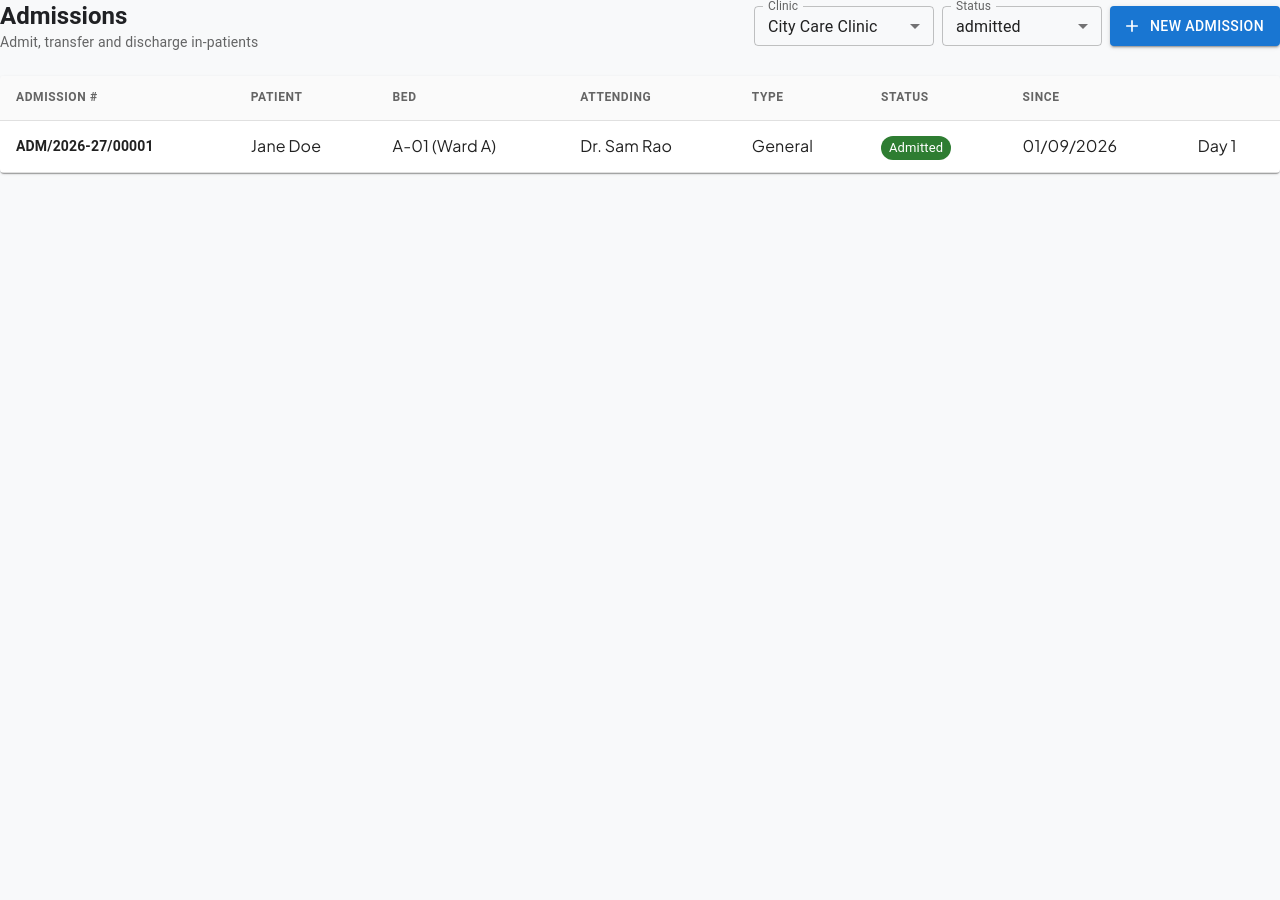
ipd/Admissions › opens the detail dialog and shows the discharge action for a live admission
Click the text "ADM/2026-27/00001". click: (85, 146)
box: [16,138,154,154]
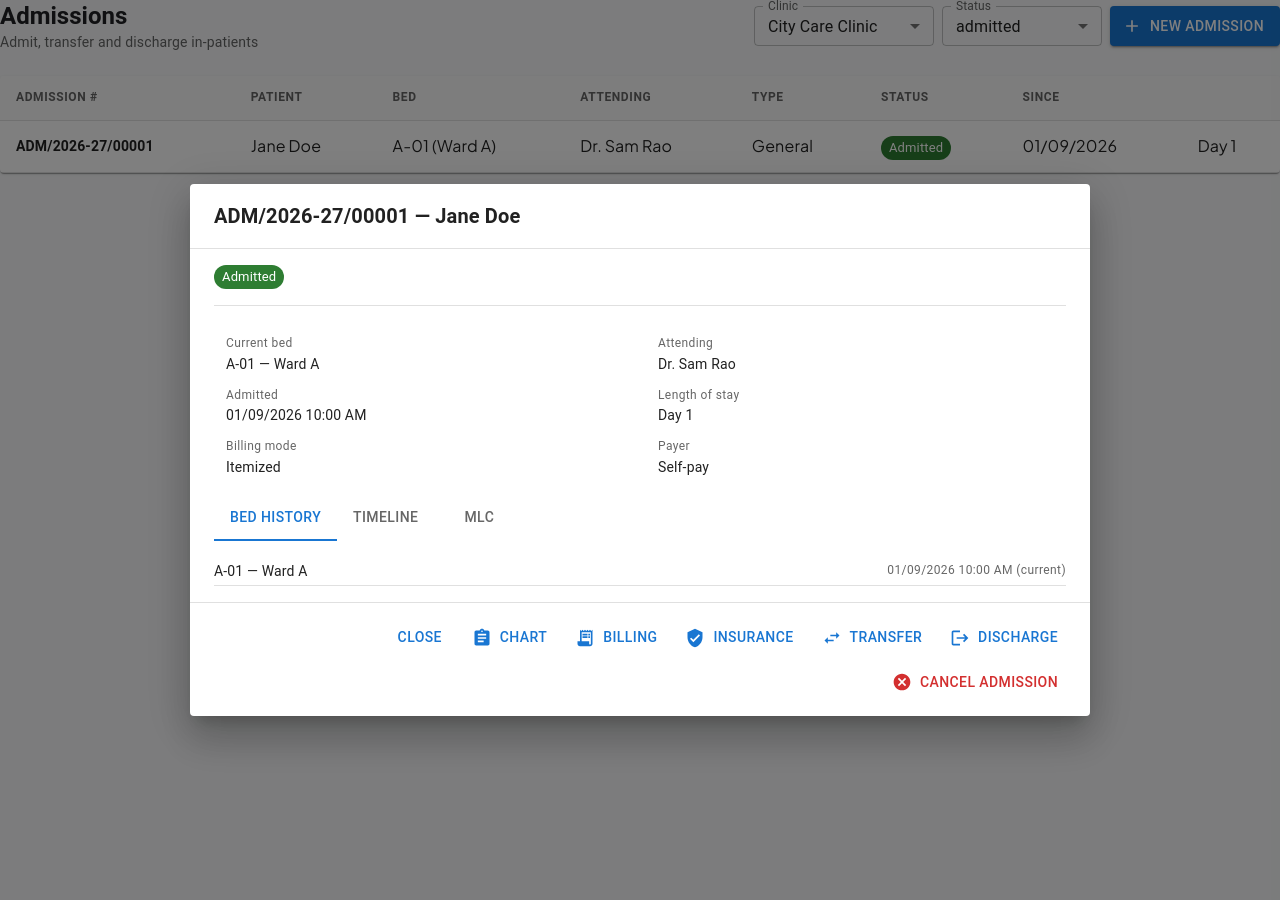
Expected: the button "Discharge" is shown, [946,619,1066,656]
Expected: the button "Transfer" is shown, [818,619,930,656]
